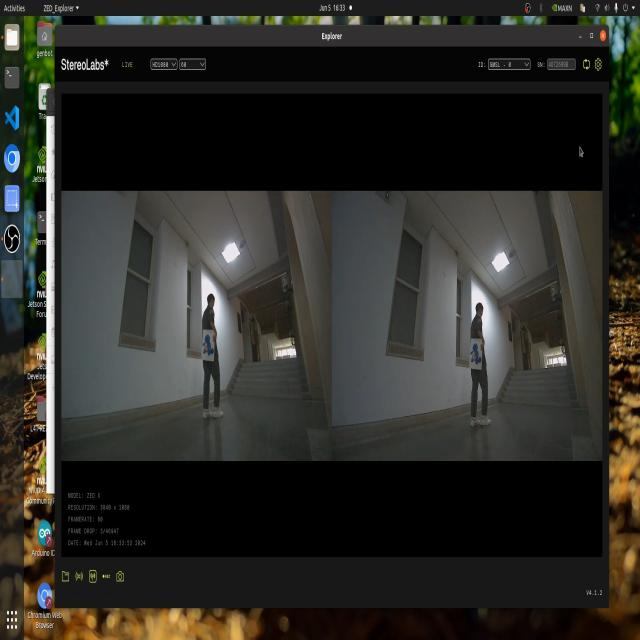blue: (467, 342, 482, 366), (204, 332, 213, 361)
